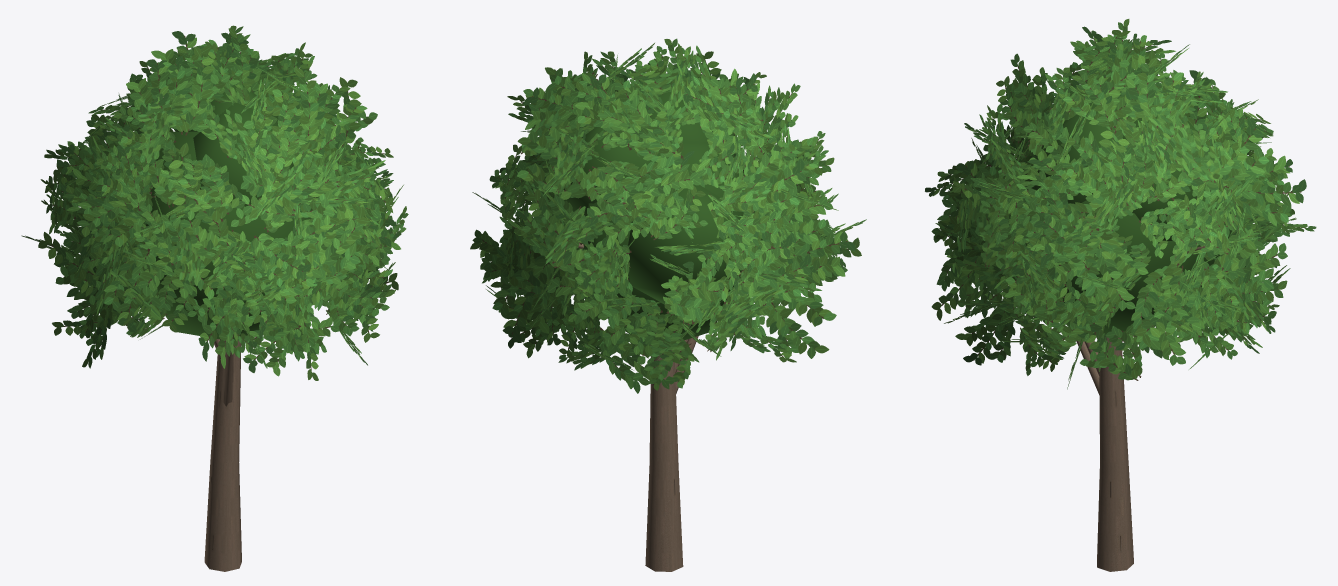
File: ULMUS_1.glb
3 renders of one model, left to right at view 1: azimuth 30°, elevation 25°; view 2: azimuth 150°, elevation 25°; view 3: azimuth 270°, elevation 25°, orthographic.
Visible parts, largest first — view 1: Arv_ULMUS_lod1; view 2: Arv_ULMUS_lod1; view 3: Arv_ULMUS_lod1.
Boxes of the visible parts, bbox=[...] form: Arv_ULMUS_lod1: bbox=[21, 25, 408, 571]; Arv_ULMUS_lod1: bbox=[470, 38, 866, 571]; Arv_ULMUS_lod1: bbox=[925, 19, 1316, 571].
Bounding box in the file's own units: 7.85 × 10.71 × 7.42.
3 materials, 2 textured.
